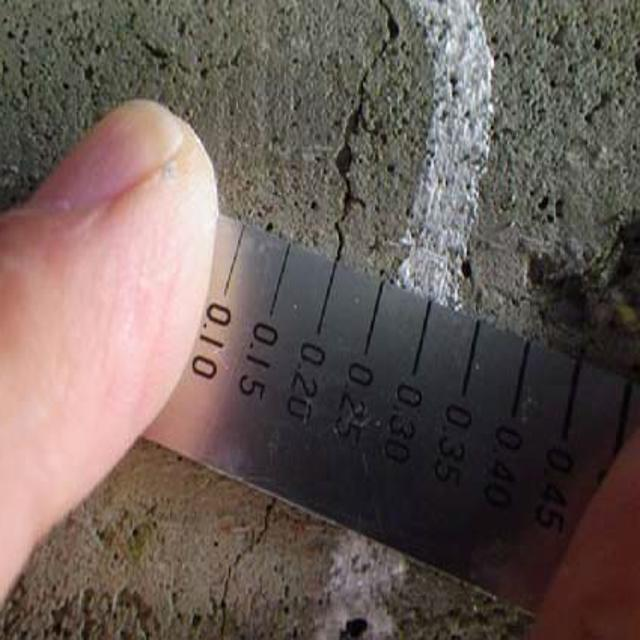crack: (329, 10, 404, 264), (208, 474, 286, 640)
